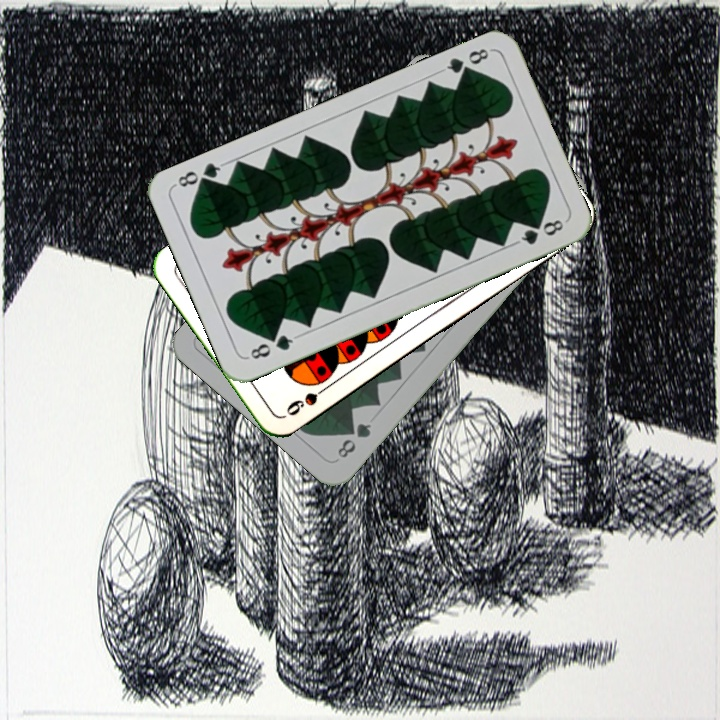G8: (437, 44, 491, 81), (243, 330, 300, 362), (333, 418, 374, 461)
S9: (282, 380, 333, 419)
